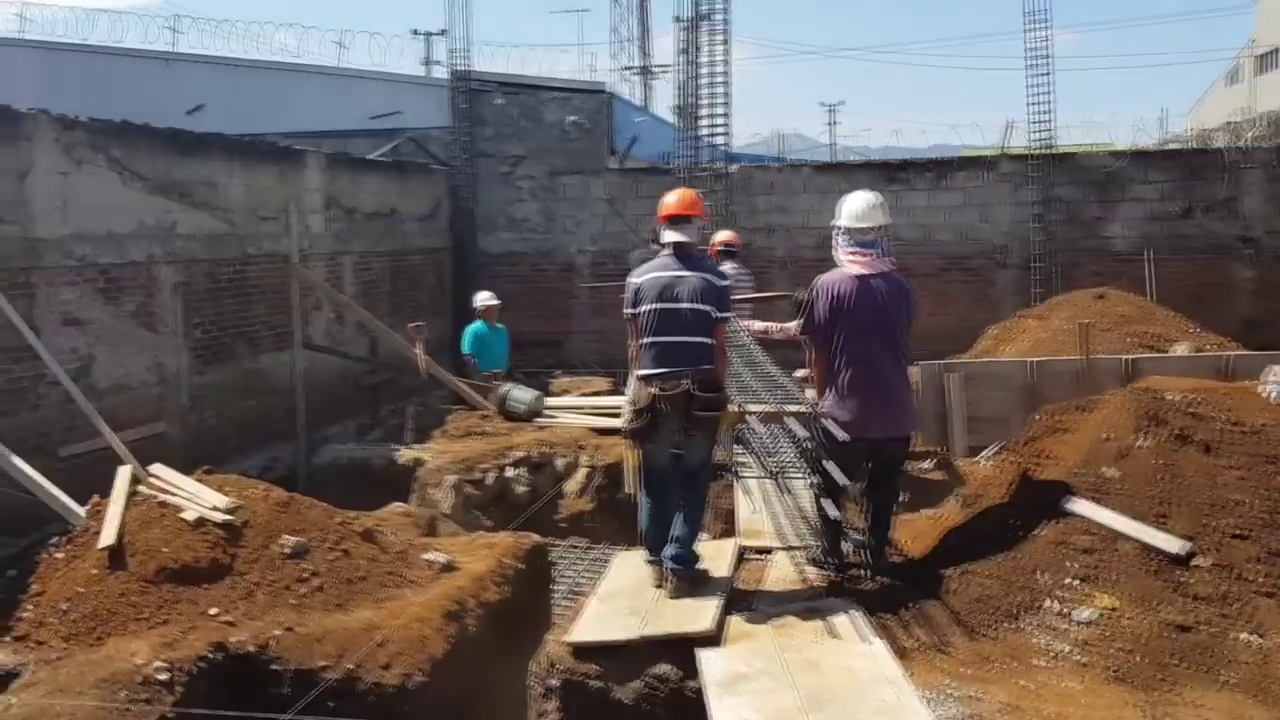helmet: (832, 190, 901, 236), (652, 188, 707, 225), (707, 230, 743, 253), (471, 292, 501, 310)
helmet-on: (829, 184, 903, 265), (652, 189, 706, 261), (707, 228, 743, 266), (470, 291, 503, 326)
person: (785, 186, 929, 593), (624, 175, 736, 597), (454, 289, 510, 379), (705, 230, 757, 322)
